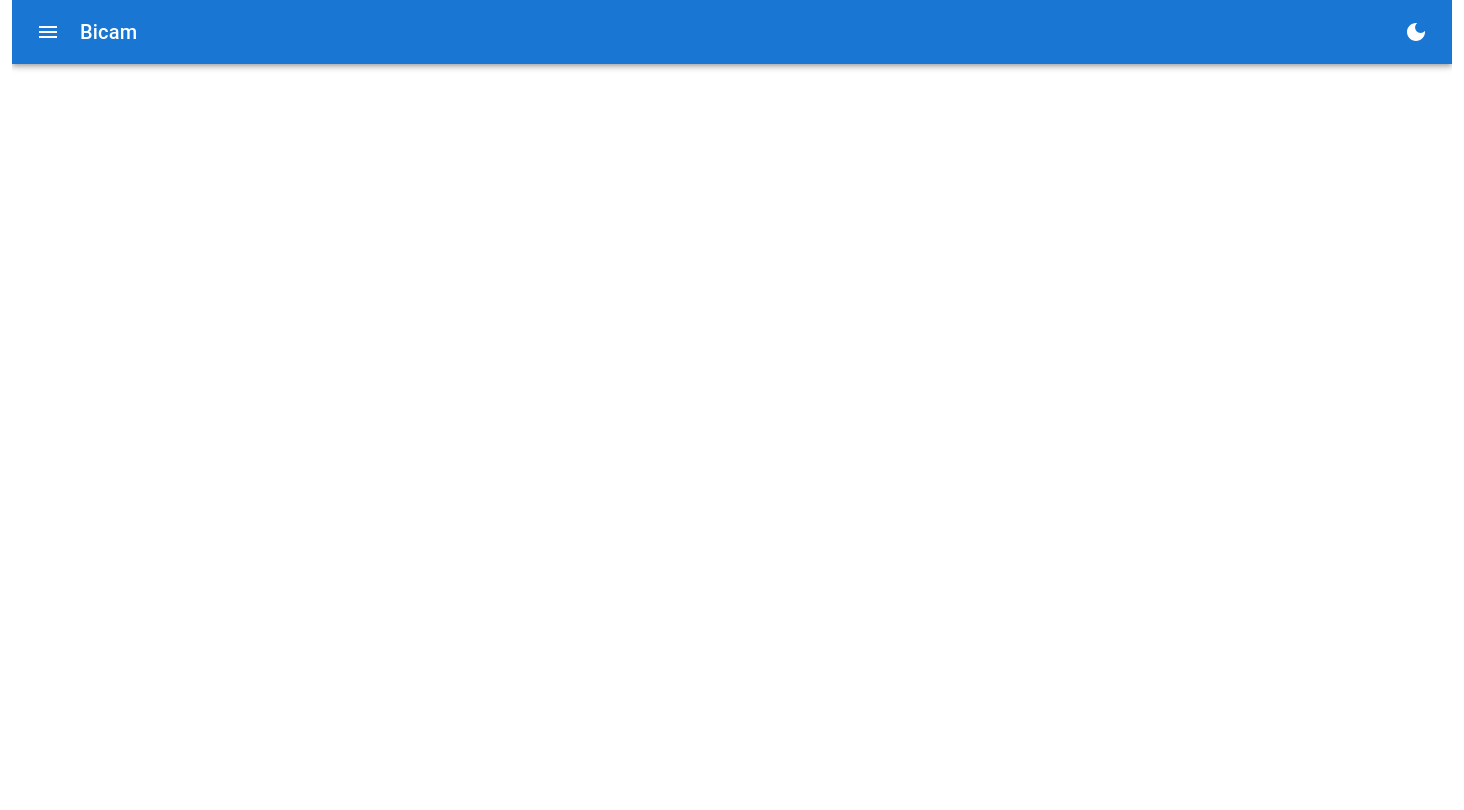
App › navigates to the Add bicycle screen
Click the button named "Open menu" at {"x": 48, "y": 32}, box [24,8,72,56]
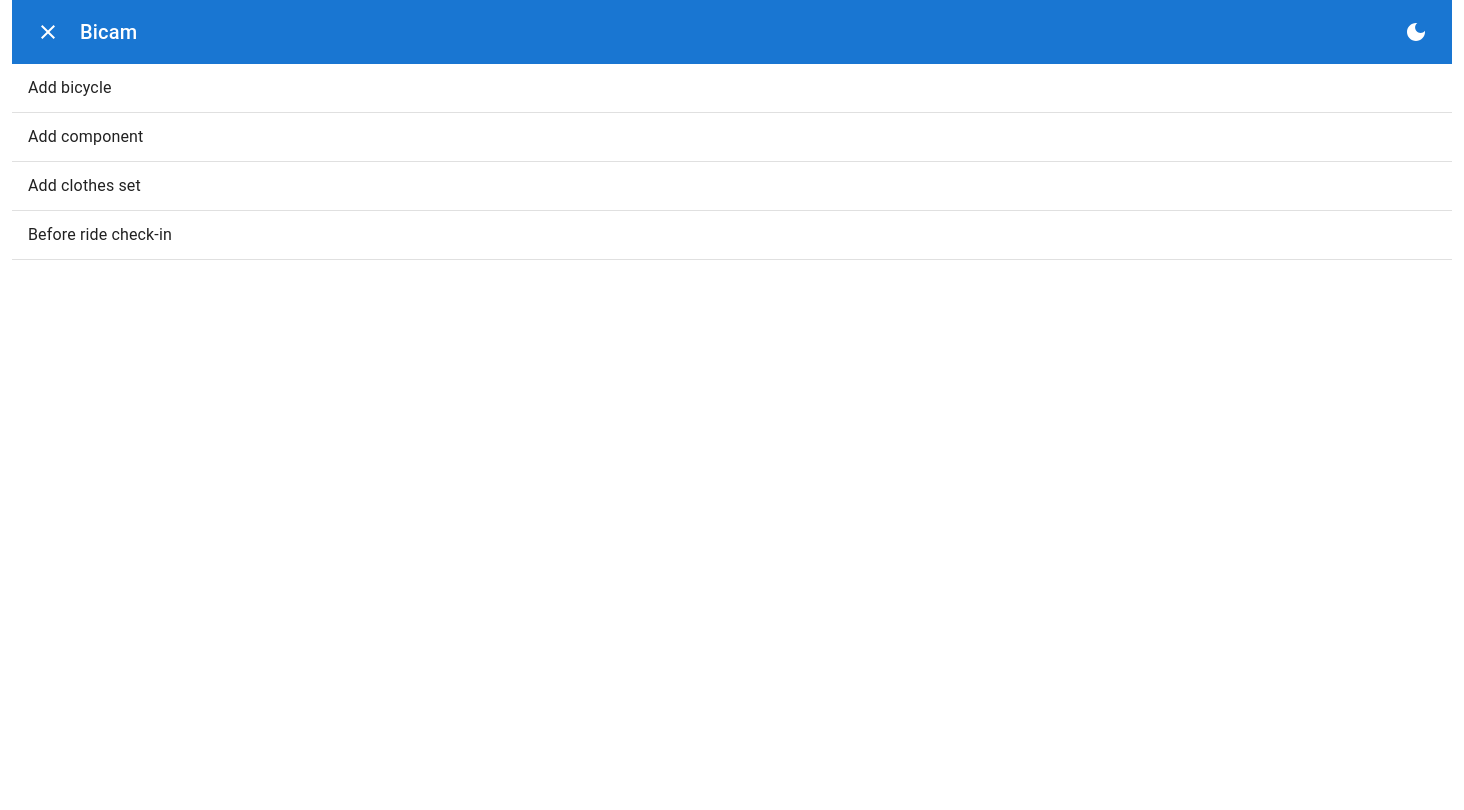
Click the button "Add bicycle" at {"x": 70, "y": 88}, box [12,64,1452,112]
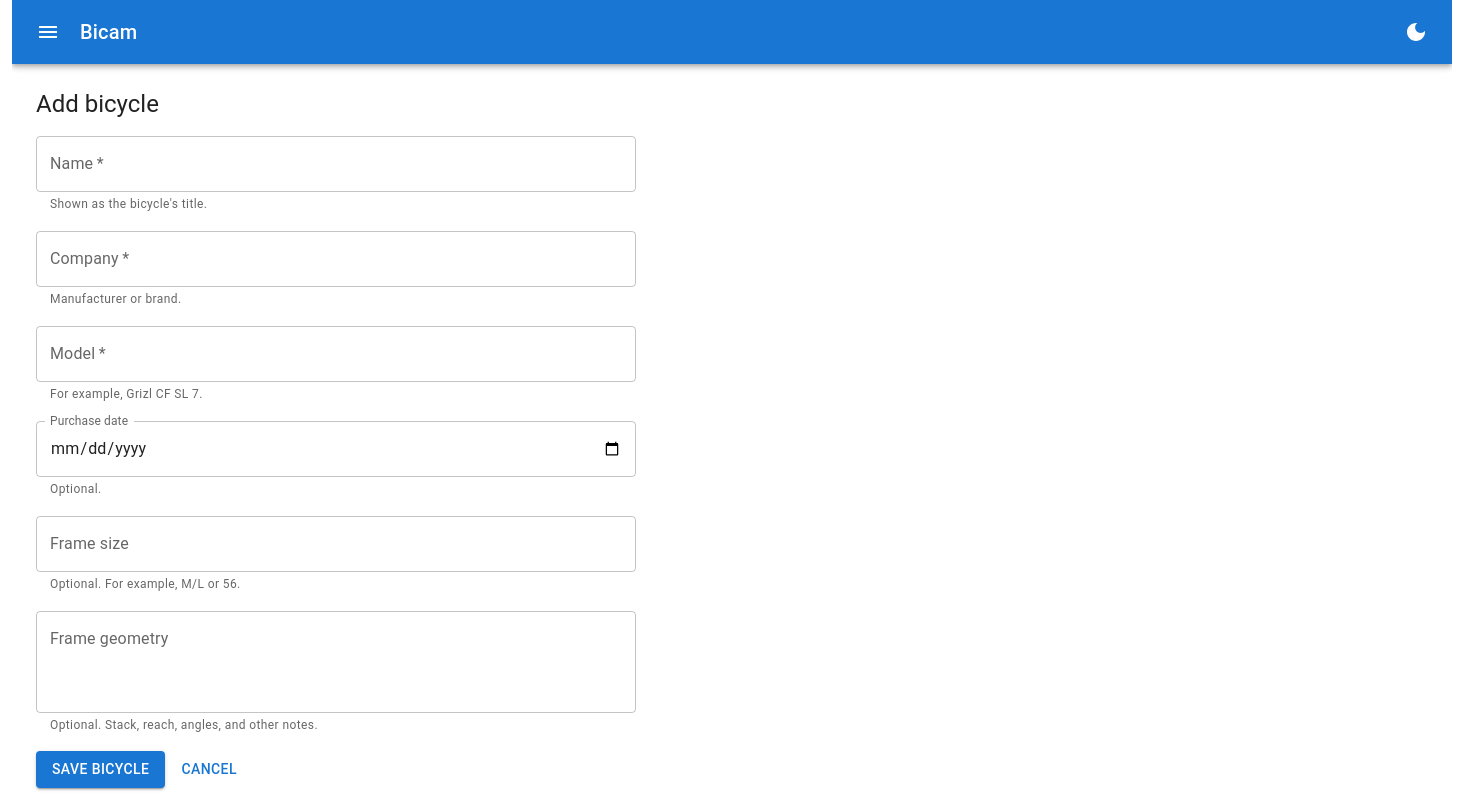
Now the heading "Add bicycle" is shown, box [36,90,159,118]
Now the navigation bar is gone
